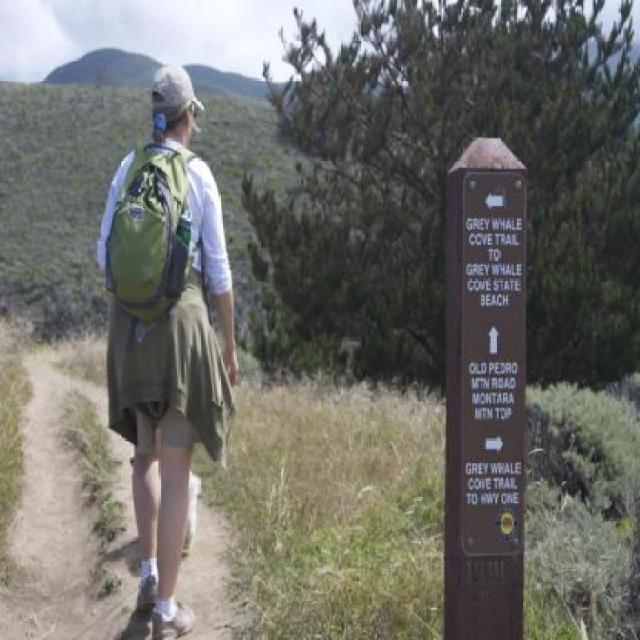backpack: (103, 139, 199, 326)
